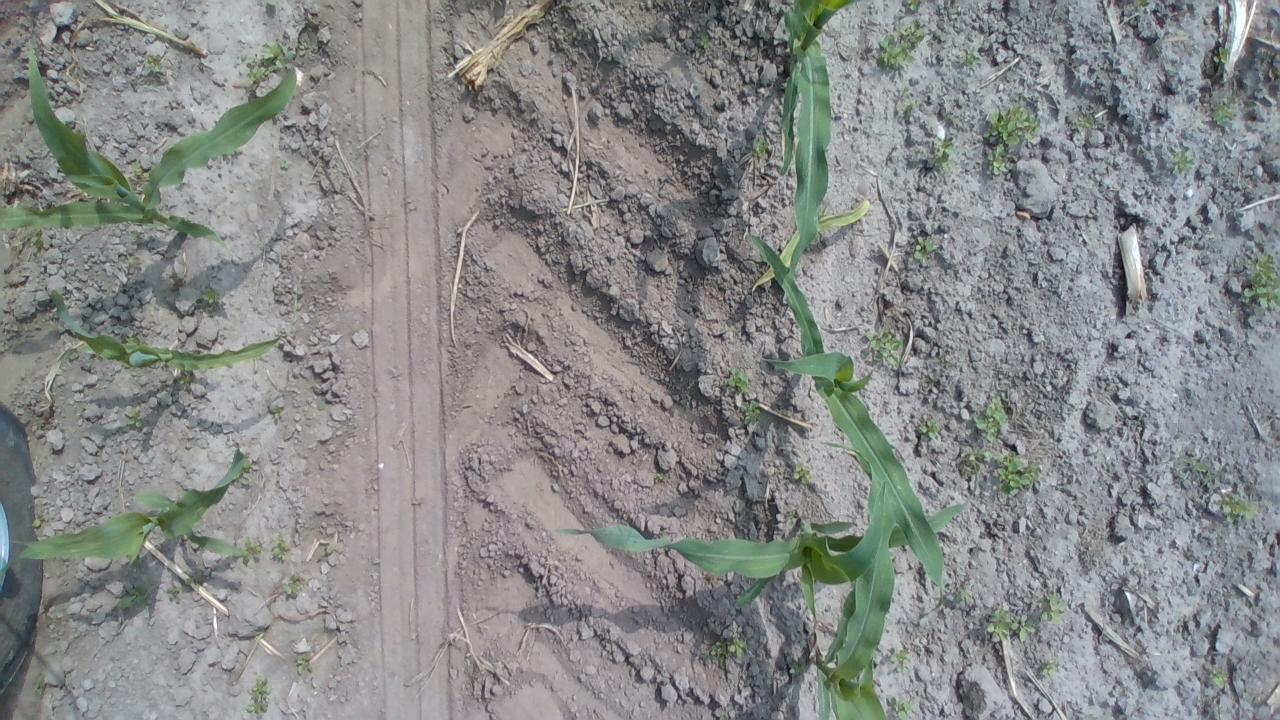Maize: (741, 230, 949, 589), (0, 37, 304, 263), (556, 502, 969, 628), (778, 0, 872, 289), (12, 450, 246, 564), (810, 434, 902, 720), (44, 282, 284, 373), (749, 200, 871, 288)
Weeds: (984, 102, 1042, 176), (242, 38, 296, 88), (879, 18, 926, 72), (1239, 253, 1280, 311), (996, 451, 1042, 497), (971, 395, 1010, 442), (864, 326, 902, 368), (702, 636, 748, 670), (1220, 493, 1258, 525), (246, 673, 273, 718), (982, 604, 1012, 642), (931, 138, 960, 176), (1210, 94, 1242, 126), (1038, 591, 1068, 624), (962, 449, 992, 479), (896, 88, 922, 122), (740, 398, 770, 426), (910, 236, 936, 267), (1184, 456, 1216, 481), (117, 584, 148, 609), (126, 158, 150, 190), (884, 693, 911, 720), (1010, 614, 1036, 642), (888, 646, 914, 674), (237, 534, 263, 562), (916, 414, 942, 440), (269, 532, 290, 562), (1171, 148, 1195, 174), (726, 367, 749, 394), (278, 572, 306, 594), (1207, 665, 1229, 690), (124, 403, 145, 428), (958, 46, 982, 66), (792, 463, 811, 488), (30, 670, 46, 699), (144, 49, 162, 74), (752, 135, 768, 159), (293, 654, 314, 672), (958, 586, 977, 605), (200, 286, 220, 304), (177, 371, 194, 391), (696, 31, 710, 55), (60, 350, 78, 368), (269, 402, 286, 421), (1212, 47, 1231, 64), (32, 511, 50, 528), (187, 570, 206, 586), (1041, 658, 1056, 678), (166, 583, 181, 601), (30, 229, 44, 248), (120, 254, 138, 268), (1078, 114, 1096, 128), (789, 662, 808, 674), (241, 454, 253, 472), (238, 474, 255, 486), (298, 39, 310, 56), (123, 334, 140, 344), (259, 0, 279, 8), (908, 0, 922, 11), (655, 472, 670, 482), (1133, 0, 1150, 8), (788, 510, 796, 526), (942, 361, 954, 368), (128, 231, 140, 238), (718, 713, 728, 720), (318, 398, 324, 408)
